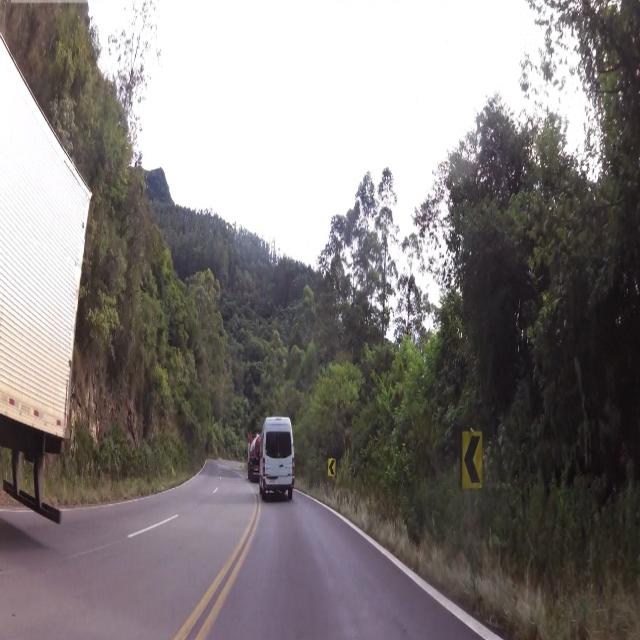Del: (461, 430, 487, 491)
